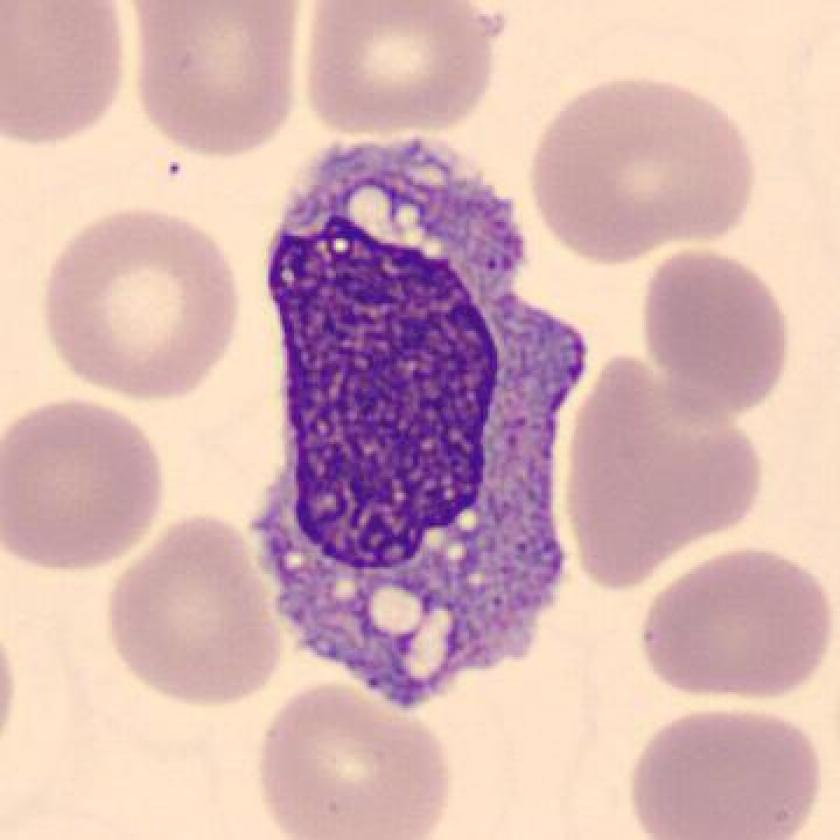monocyte: (223, 114, 612, 714)
